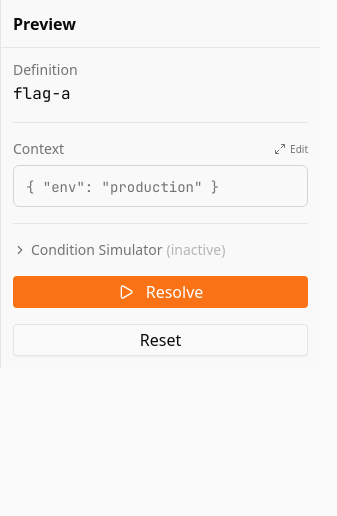
PreviewPanel › should show string value in result
Click the button "Resolve". click: (160, 292)
box: [13,276,308,308]
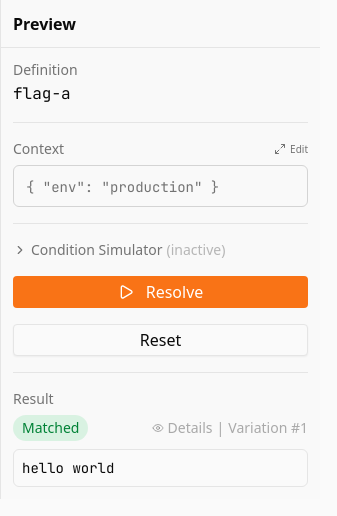
Check: the text "hello world" is shown, box [22,459,114,477]
Check: the text "Variation #1" is shown, box [228,418,308,438]
